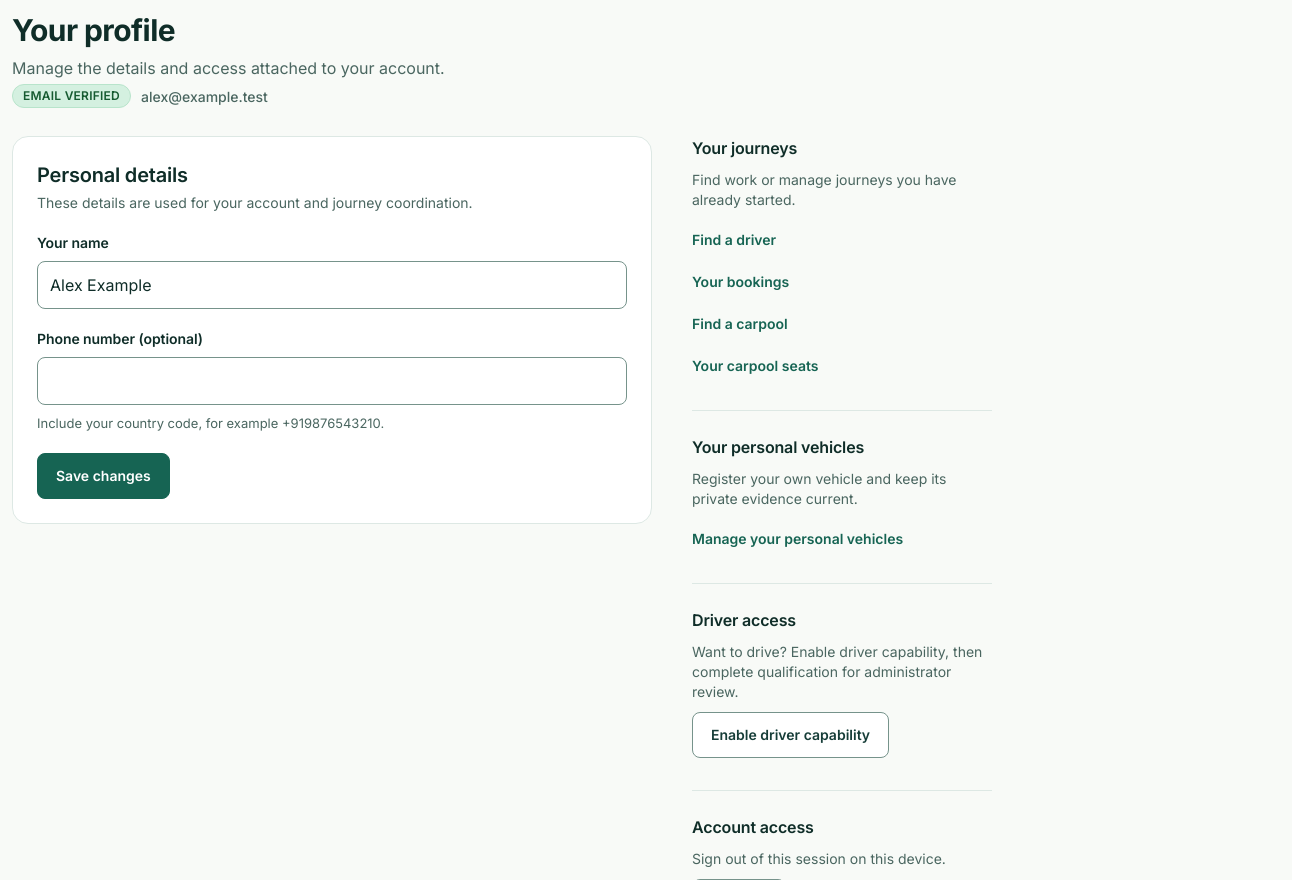
Test: keeps entered details when the profile save fails
The image size is (1292, 880).
Step 1. Replace the text in the field labelled "Your name" with "Alex Retained" → (332, 285), box [37, 261, 627, 309]
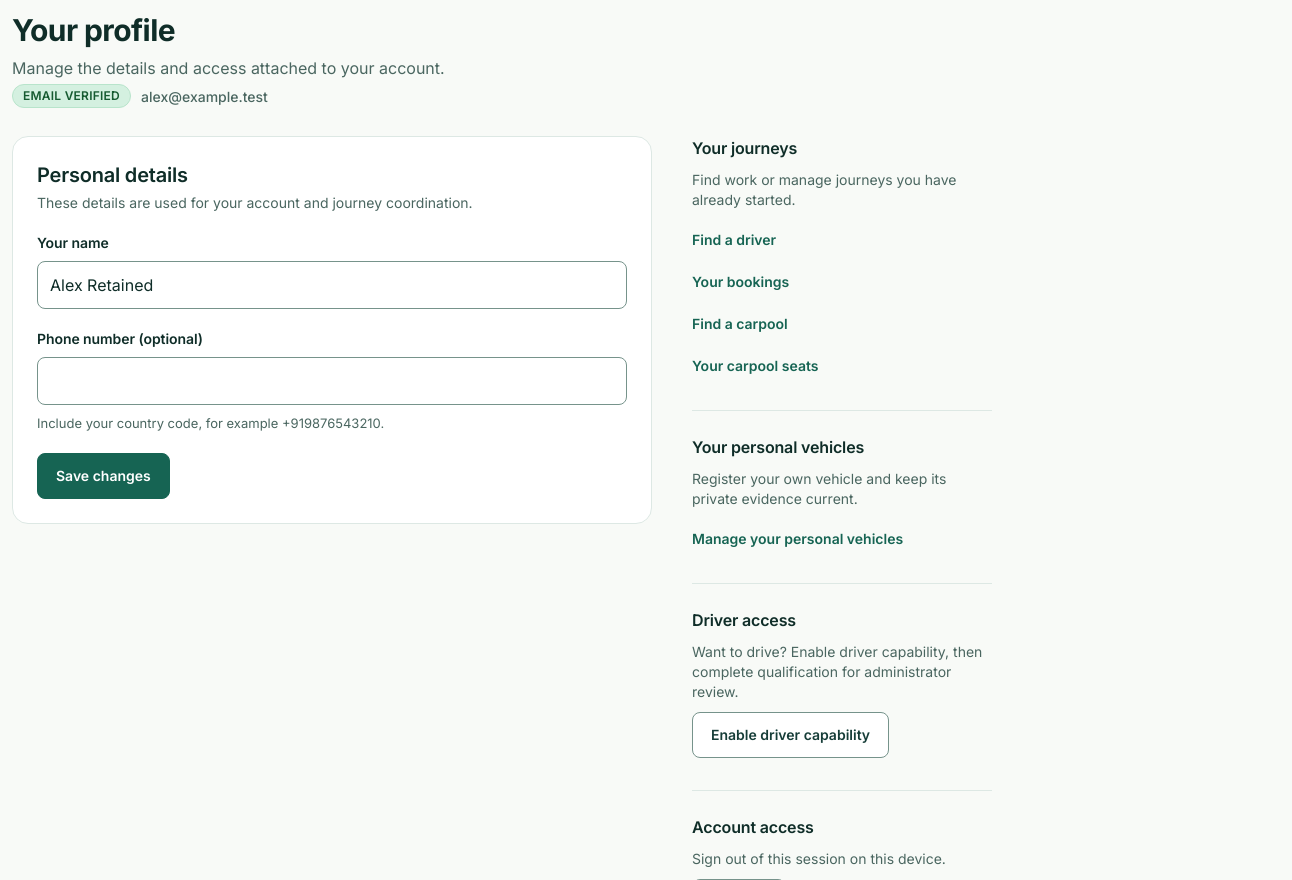
Step 2. Type "+919876543210" into the field labelled "Phone number (optional)" → (332, 381), box [37, 357, 627, 405]
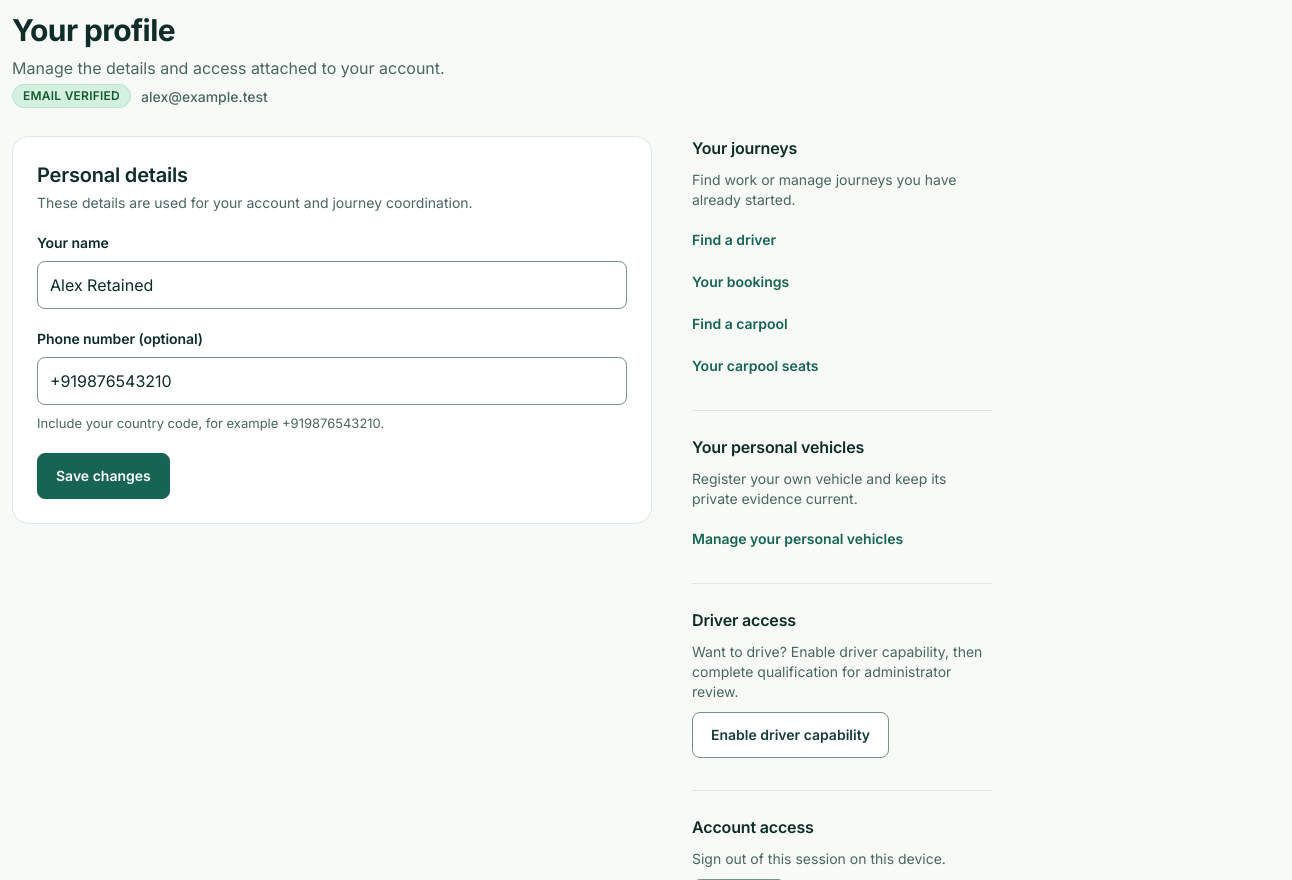
Step 3. Click the button "Save changes" → click(103, 476), box [37, 453, 170, 499]
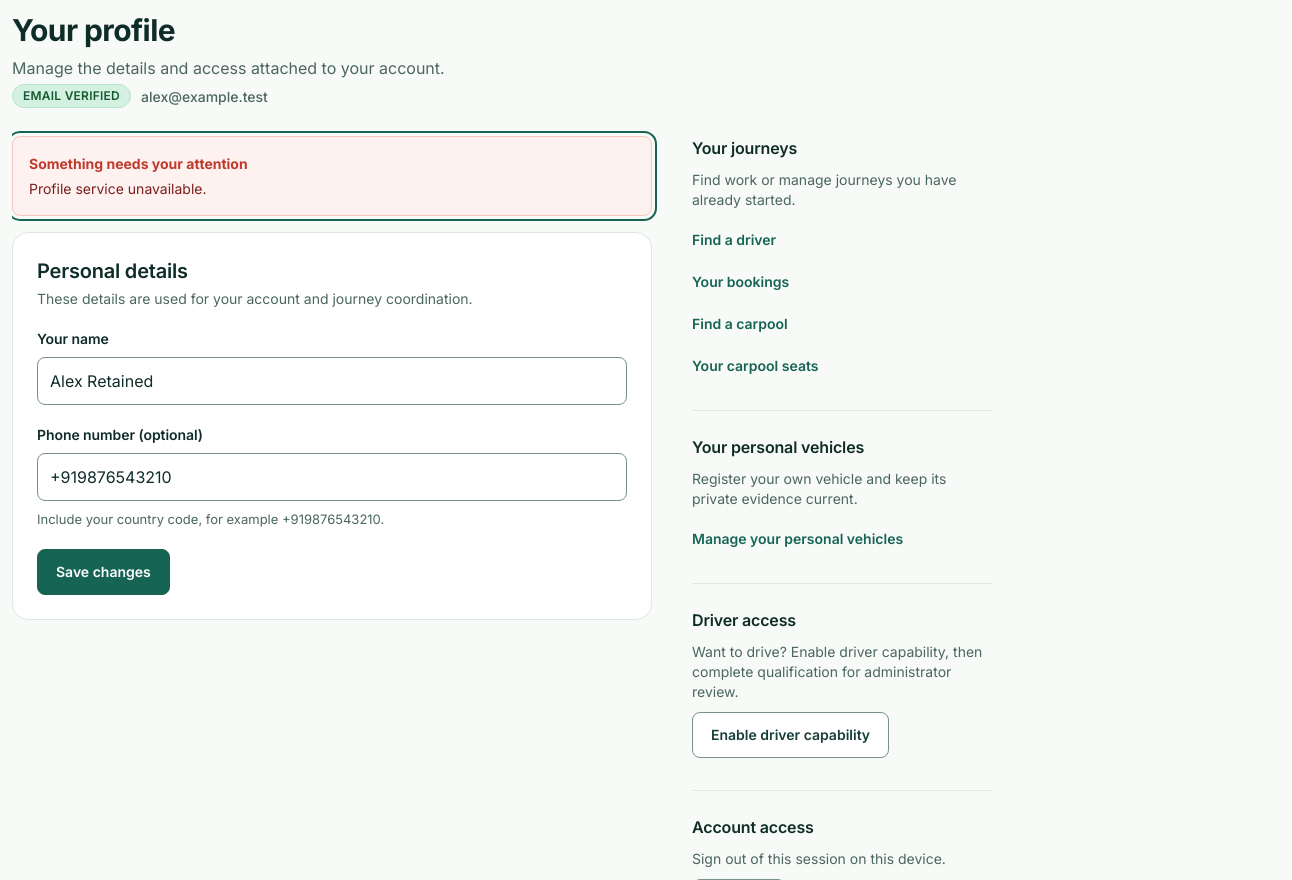
Result: the message shows "Profile service unavailable." at [29, 180, 206, 197]
